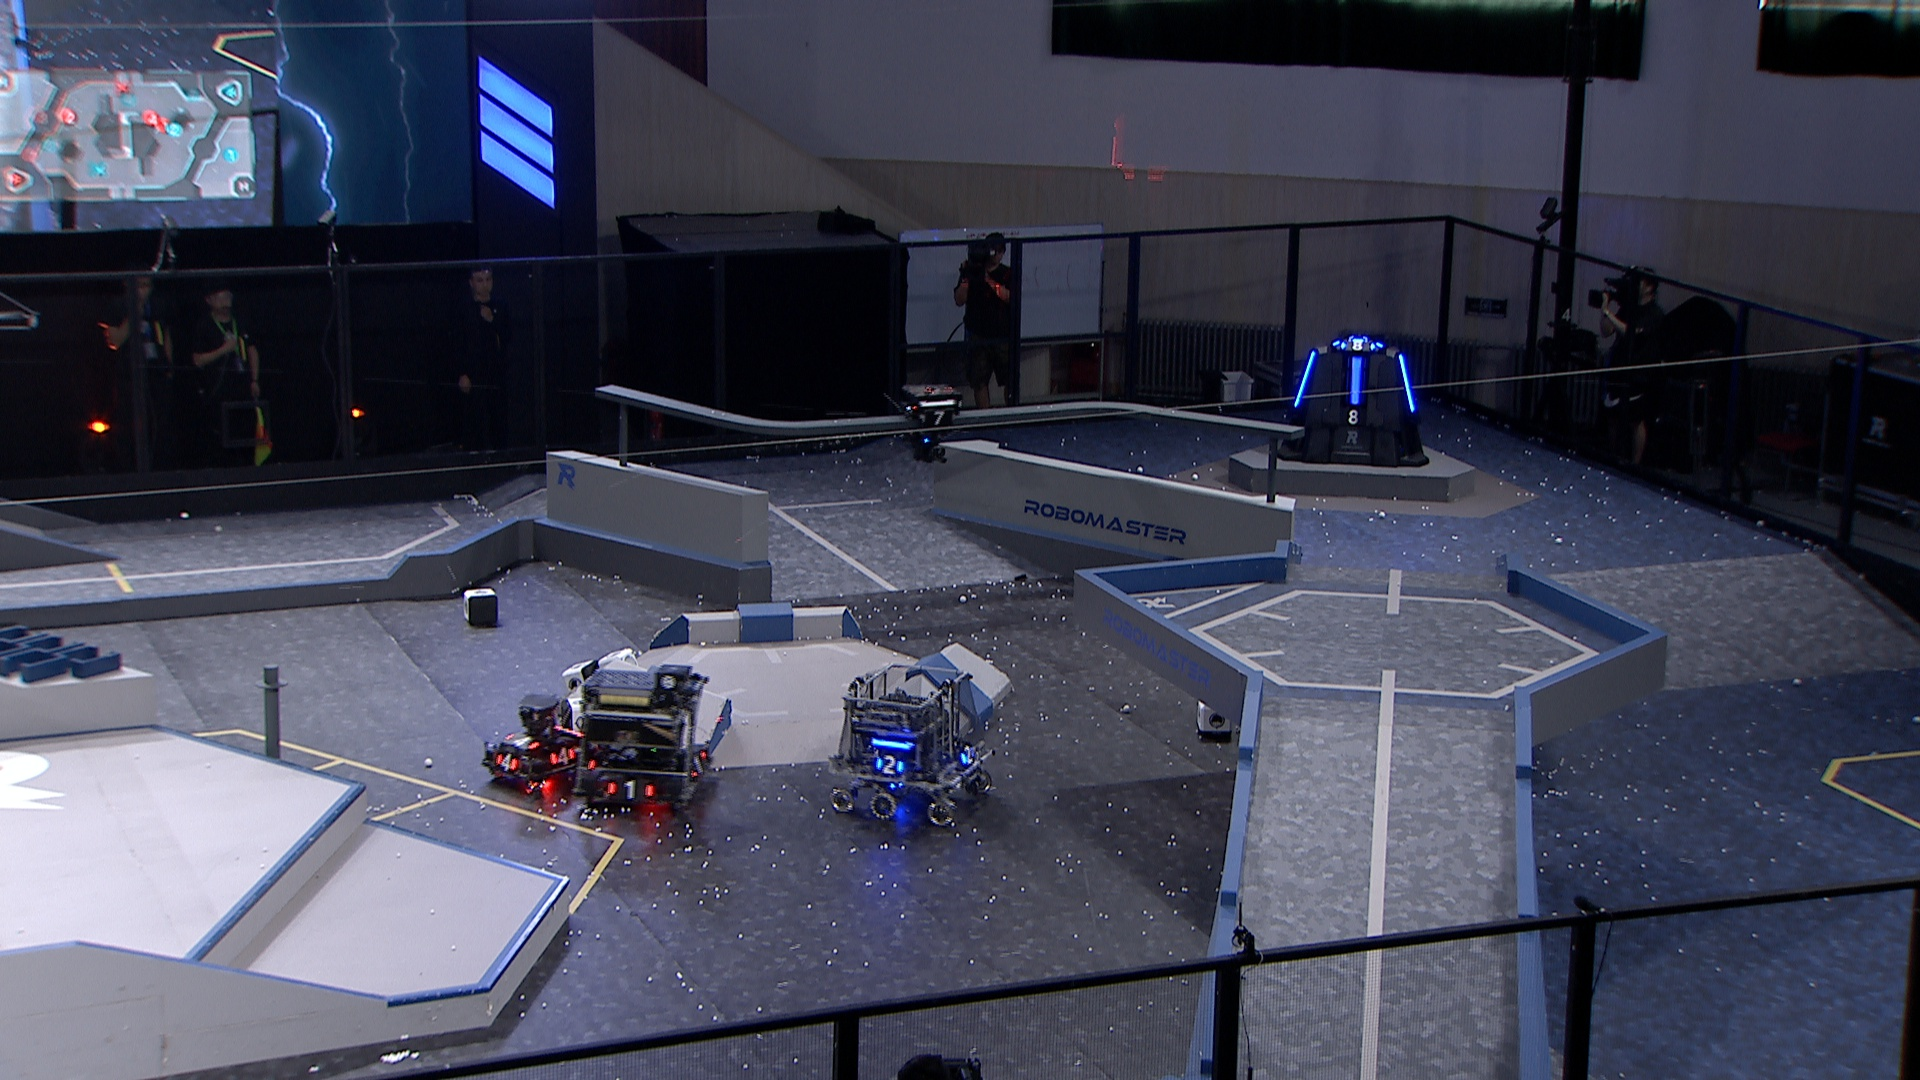armor: (1290, 348, 1317, 409), (1396, 353, 1419, 414), (604, 779, 655, 802), (1349, 356, 1365, 407), (874, 754, 906, 779), (918, 410, 955, 429), (502, 733, 539, 752), (688, 749, 708, 782), (1338, 338, 1378, 353), (550, 745, 579, 766), (493, 752, 520, 773), (956, 744, 977, 766), (1340, 407, 1364, 427)
base: (1275, 334, 1429, 469)
car: (828, 665, 996, 831), (571, 665, 713, 815), (479, 692, 595, 793)
watcher: (898, 385, 964, 469)
